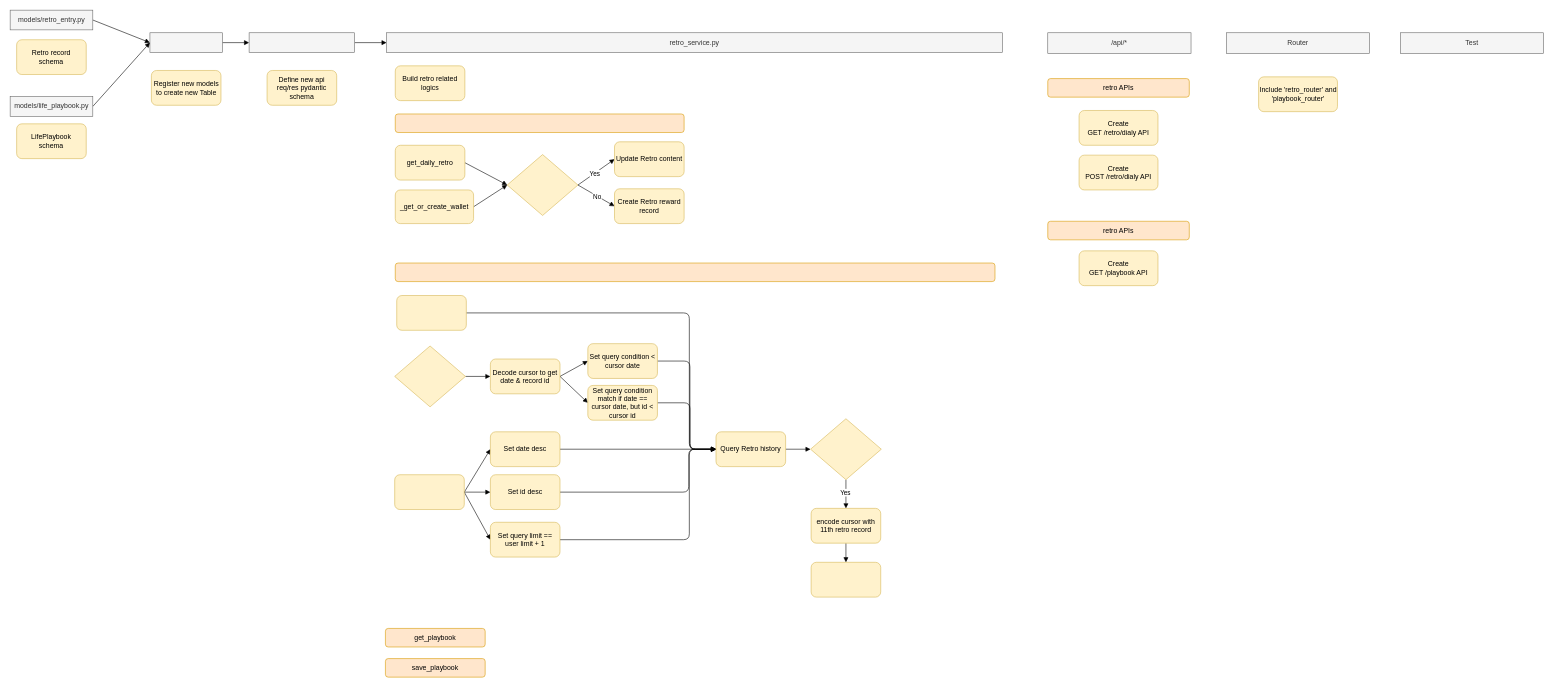
This 1554x687 diagram has some shape labels left out. Here are the shapes that lost their labels. From the top down, the centre of each, then its label:
point (185, 42): services/db.py
point (302, 42): reward_hierarchy_schema.py
point (539, 123): submit_daily_retro
point (542, 184): has retro (entry)?
point (695, 272): list_retro_history
point (431, 312): Get SQL query source (Retro)
point (429, 376): has cursor?
point (845, 449): has 1 more record?
point (429, 492): Set SQL order
point (846, 579): return next_cursor
